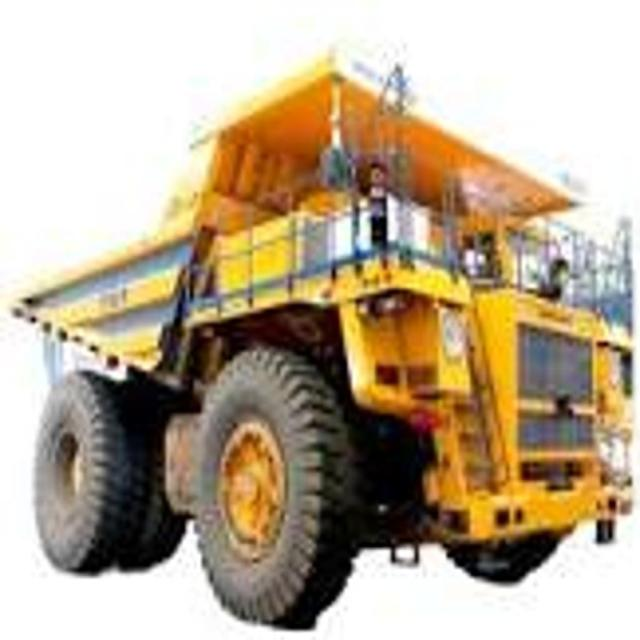dump_truck: (6, 56, 635, 624)
